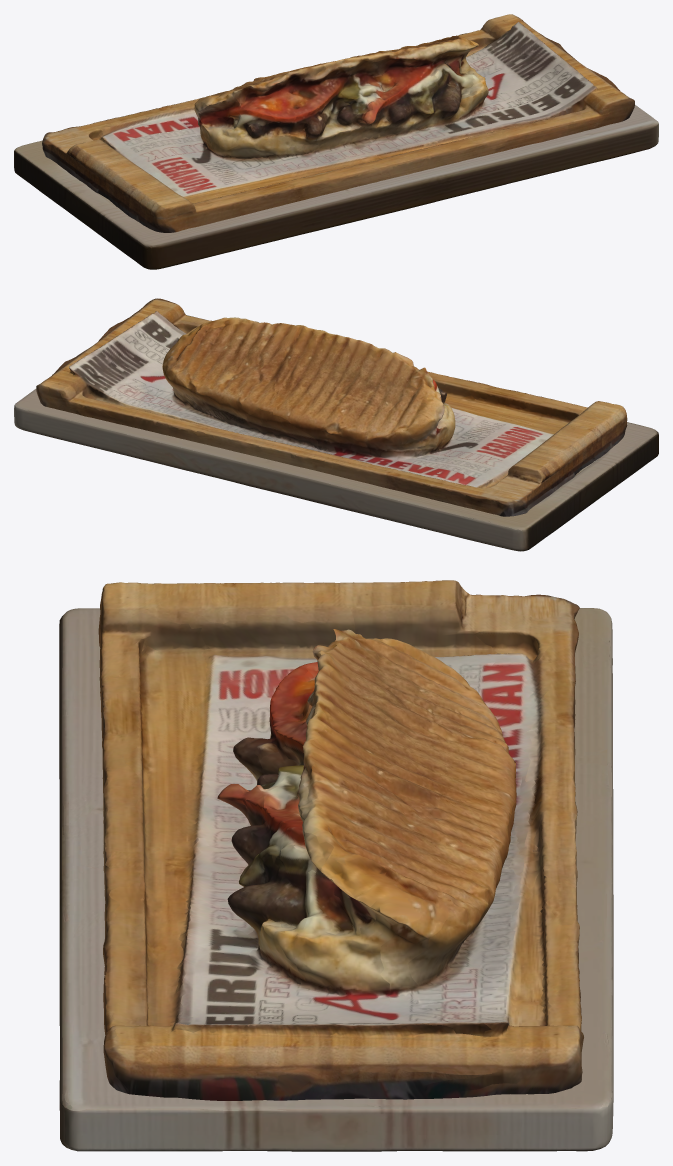
The model's file is Makanek.sandvich.glb.
The picture shows the model from 3 angles, top to bottom: view 1: azimuth 30°, elevation 25°; view 2: azimuth 150°, elevation 25°; view 3: azimuth 270°, elevation 25°; orthographic projection. The views are drawn at different scales.
Visible parts, largest first — view 1: /Root/Scenes/Scene/Object_329/Object_330/Submesh_0, /Root/Scenes/Scene/Object_329/Object_333/Object_334/Submesh_; view 2: /Root/Scenes/Scene/Object_329/Object_330/Submesh_0, /Root/Scenes/Scene/Object_329/Object_333/Object_334/Submesh_; view 3: /Root/Scenes/Scene/Object_329/Object_330/Submesh_0, /Root/Scenes/Scene/Object_329/Object_333/Object_334/Submesh_.
Part boxes in pixels (x1,y1,x2,y2): /Root/Scenes/Scene/Object_329/Object_330/Submesh_0: (42,14,634,232); /Root/Scenes/Scene/Object_329/Object_333/Object_334/Submesh_: (14,105,658,269); /Root/Scenes/Scene/Object_329/Object_330/Submesh_0: (36,298,627,516); /Root/Scenes/Scene/Object_329/Object_333/Object_334/Submesh_: (14,315,658,551); /Root/Scenes/Scene/Object_329/Object_330/Submesh_0: (98,580,583,1100); /Root/Scenes/Scene/Object_329/Object_333/Object_334/Submesh_: (59,608,613,1151).
Size of the model in its own units: 0.3954 by 0.0757 by 0.1845.
Materials: 2 (2 with a texture image).
